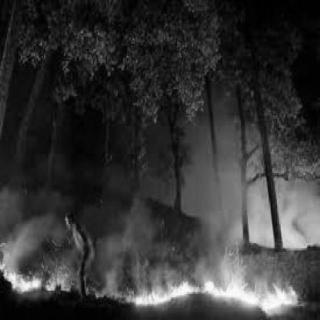Fire: (130, 260, 304, 312), (1, 255, 75, 298)
Smoke: (124, 210, 148, 253)
